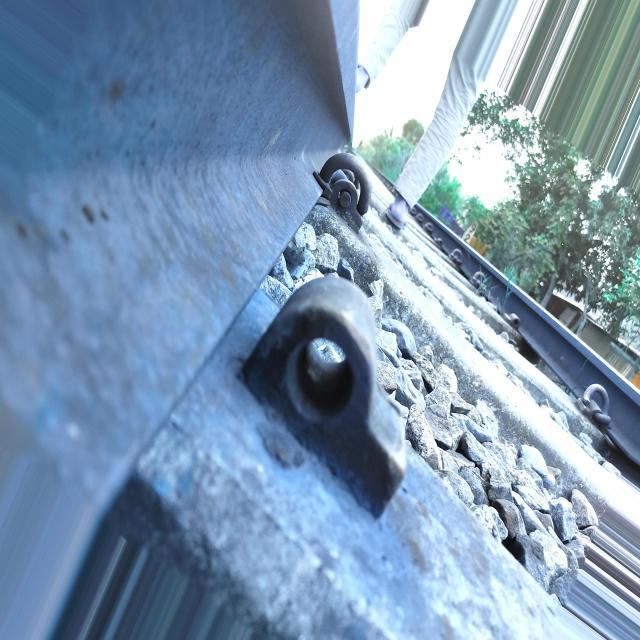Good Fasteners: (316, 153, 372, 229), (578, 384, 611, 429)
Missing Fastener: (233, 260, 416, 529), (504, 313, 520, 330)
